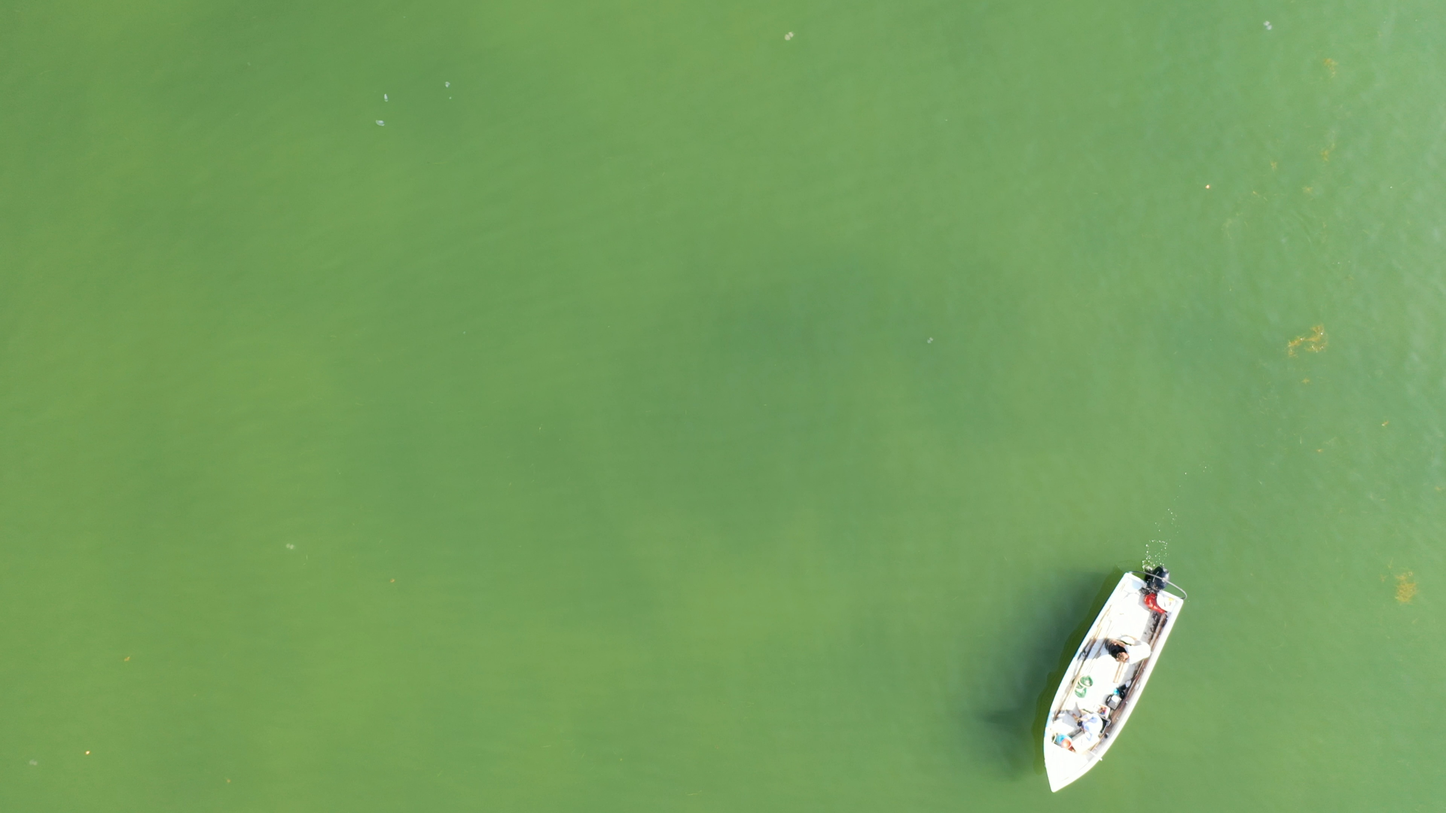meduse: (786, 31, 794, 41), (1264, 22, 1272, 32), (286, 542, 294, 551), (29, 758, 37, 767), (926, 337, 933, 344)
